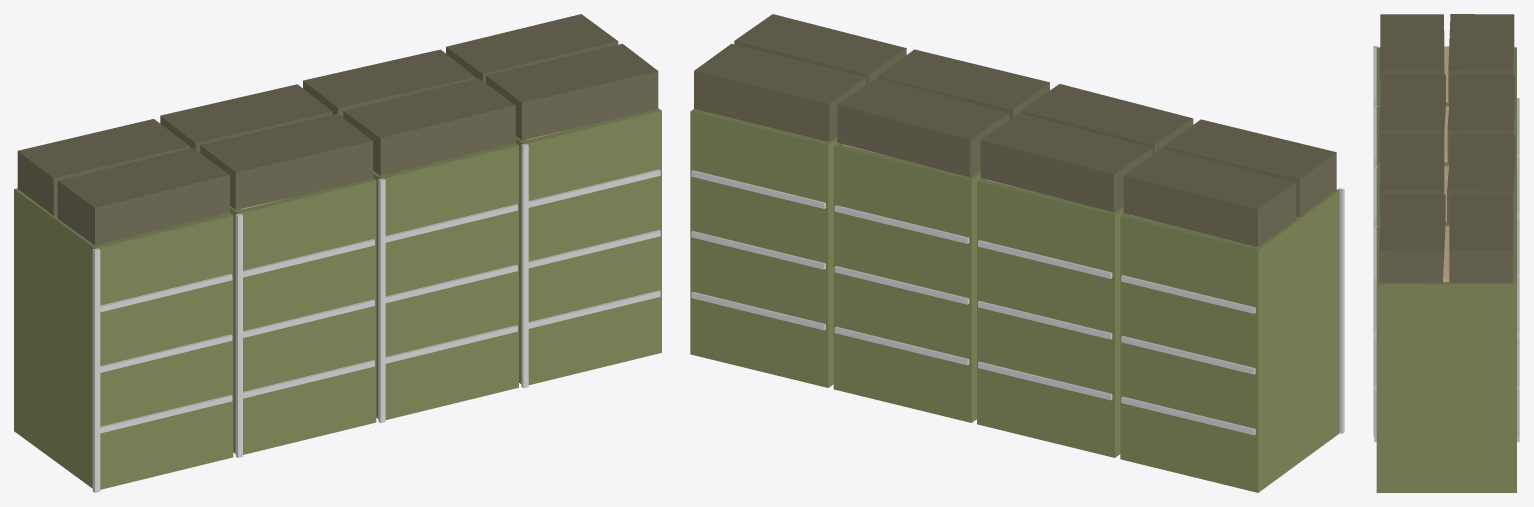
File: SM_HescoCorto4_v3_RemateSacos_e0_Sano_LOD0.fbx
3 views of the same model, side by side, from view 1: azimuth 30°, elevation 25°; view 2: azimuth 150°, elevation 25°; view 3: azimuth 270°, elevation 25° (orthographic). The views are drawn at different scales.
Visible parts, largest first — view 1: SM_hesco_piezas_v112_LOD0; view 2: SM_hesco_piezas_v112_LOD0; view 3: SM_hesco_piezas_v112_LOD0.
Part boxes in pixels (x1,y1,x2,y2): SM_hesco_piezas_v112_LOD0: (14,14,661,492); SM_hesco_piezas_v112_LOD0: (690,14,1344,492); SM_hesco_piezas_v112_LOD0: (1373,14,1519,492).
Bounding box in the file's own units: 4.42 × 2.09 × 1.14.
